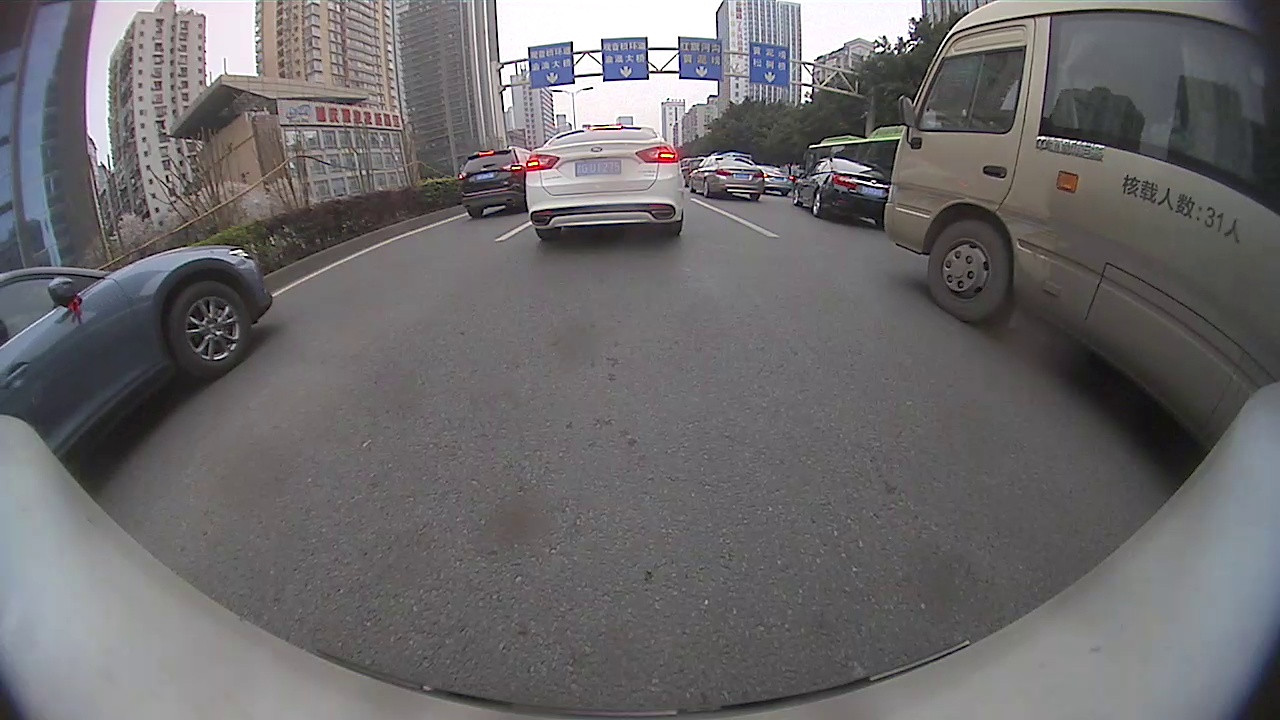bus: (882, 0, 1279, 451), (809, 125, 902, 180)
car: (0, 242, 274, 468), (527, 125, 688, 243), (796, 156, 889, 225), (458, 145, 531, 218), (687, 156, 766, 202), (762, 168, 793, 196)
front: (165, 281, 255, 379), (926, 219, 1012, 320)
rear: (809, 189, 823, 217)
